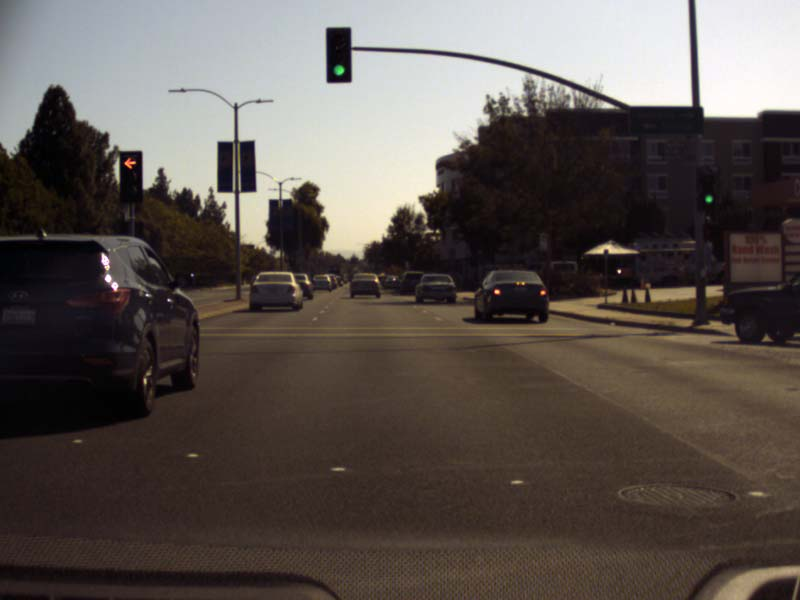Green: (325, 28, 351, 81), (699, 170, 717, 210)
Red: (120, 151, 142, 200)
